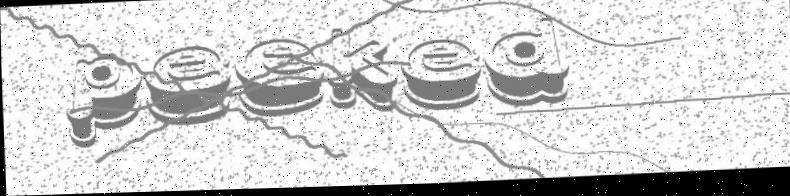d: (484, 20, 570, 109)
e: (234, 39, 326, 120), (144, 46, 231, 127), (401, 40, 482, 113)
k: (327, 28, 398, 115)
p: (64, 55, 143, 147)
